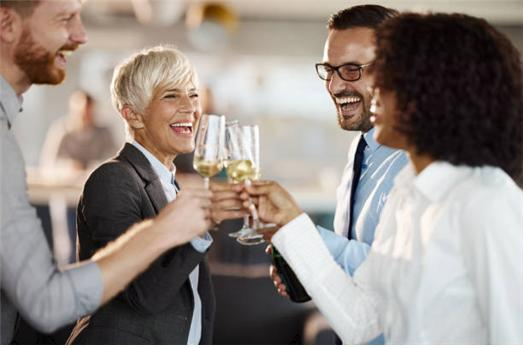alcohol: (216, 124, 269, 246), (190, 112, 219, 195)
